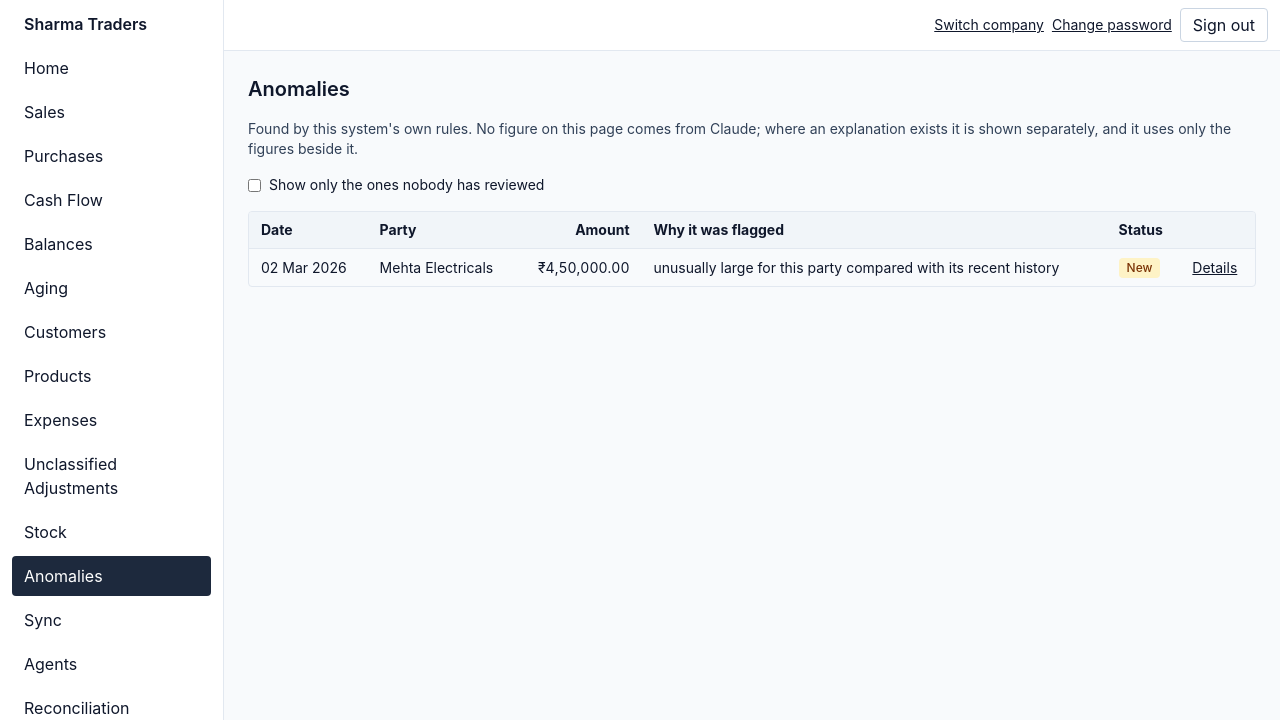
Test: the Anomalies section (SRS 12) › keeps the evidence and the explanation in separate labelled areas (FR-3.7)
Click the button "Details" at (1215, 268), box [1192,258,1237,278]
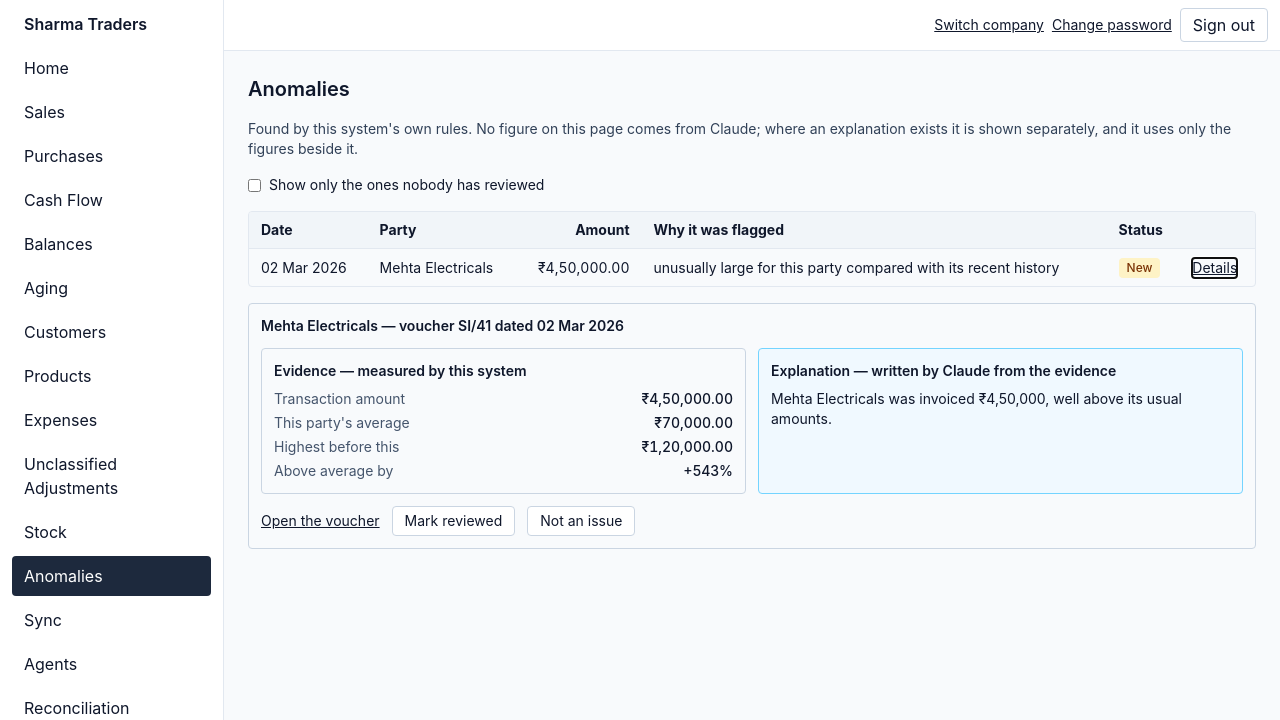
Expected: the text "₹4,50,000.00" in the row of "Transaction amount" is shown, [641,390,733,407]
Expected: the text "₹70,000.00" is shown, [654,414,733,431]
Expected: the text "₹1,20,000.00" is shown, [641,438,733,455]
